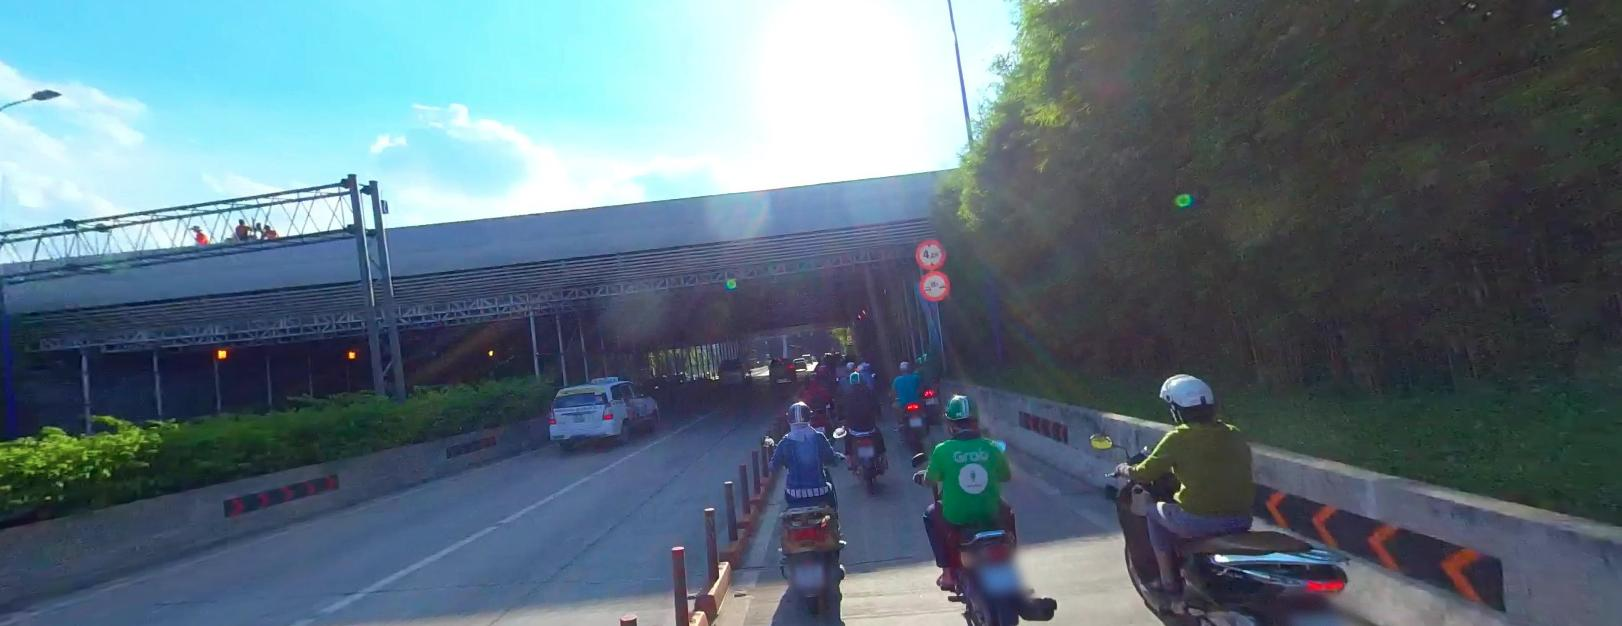Cam con lai: (913, 236, 947, 266), (917, 270, 949, 300)
